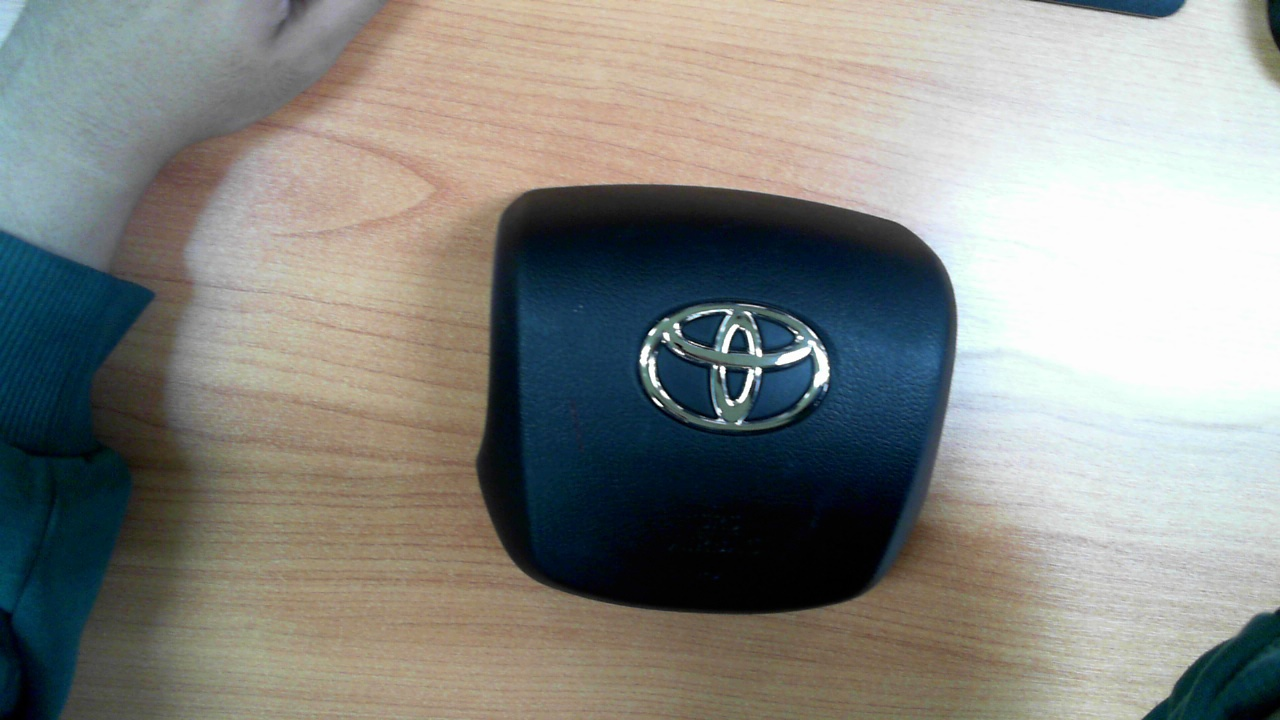Airbag: (474, 182, 960, 616)
Toyota: (638, 303, 831, 431)
